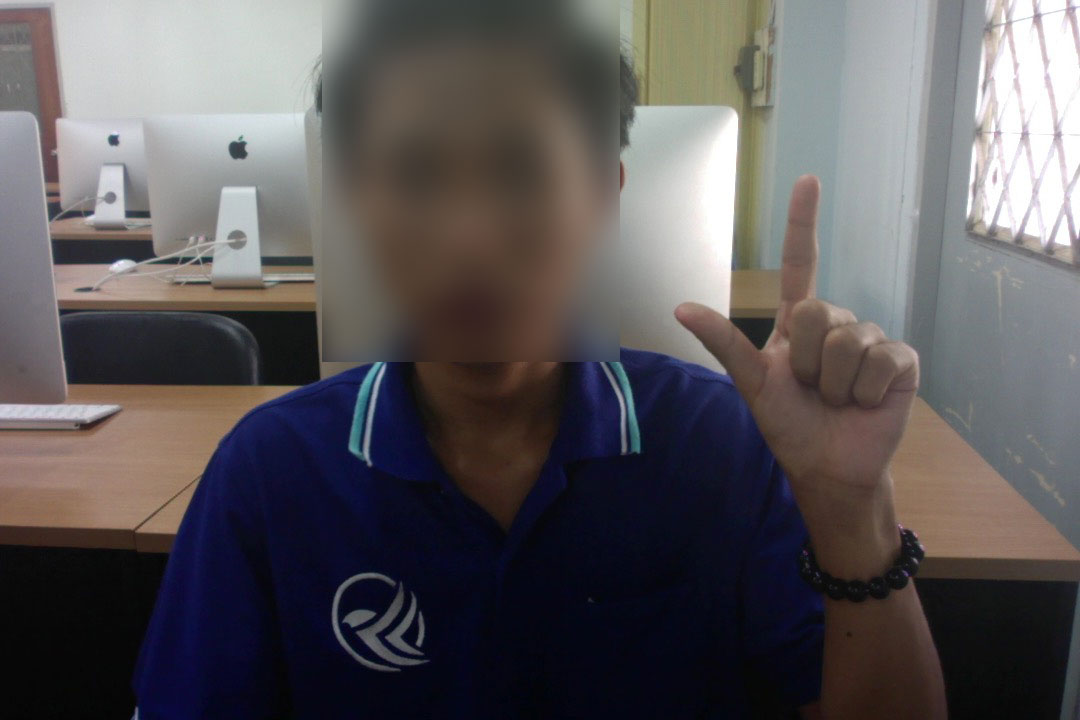lor: (661, 164, 924, 517)
